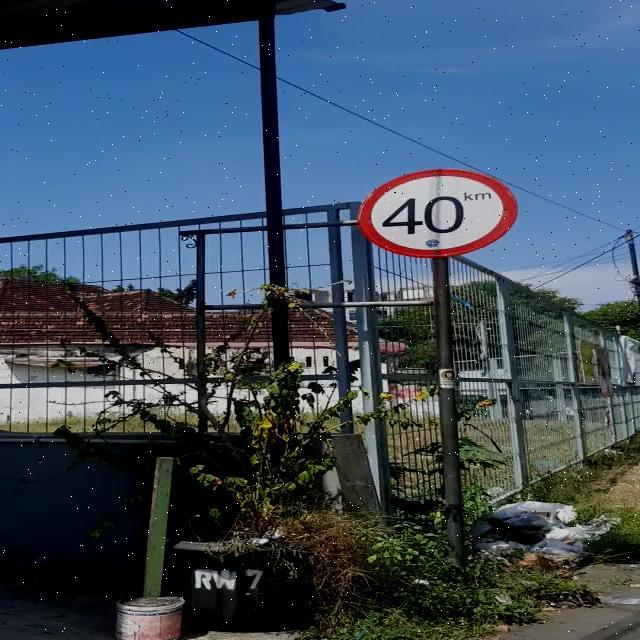Kecepatan Maks. 40 km: (358, 169, 518, 258)
